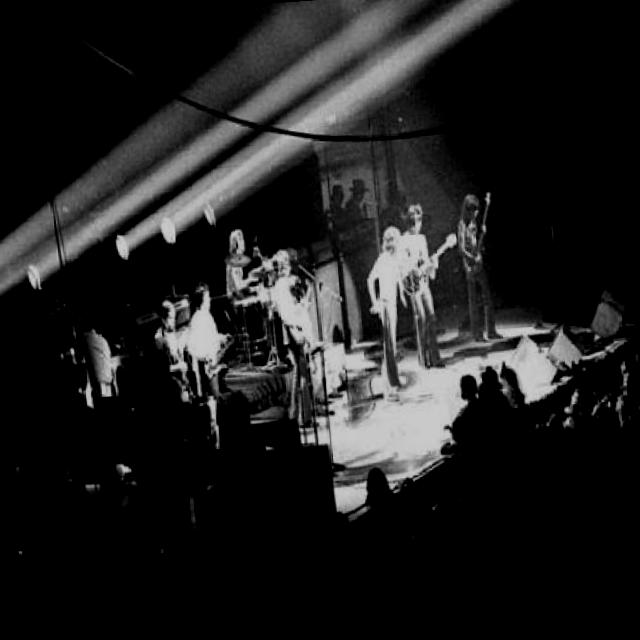Person: (347, 352, 640, 636), (398, 194, 450, 378), (266, 248, 327, 401), (361, 224, 413, 396), (448, 192, 497, 340), (178, 280, 230, 407), (217, 224, 265, 339), (150, 300, 195, 396)
